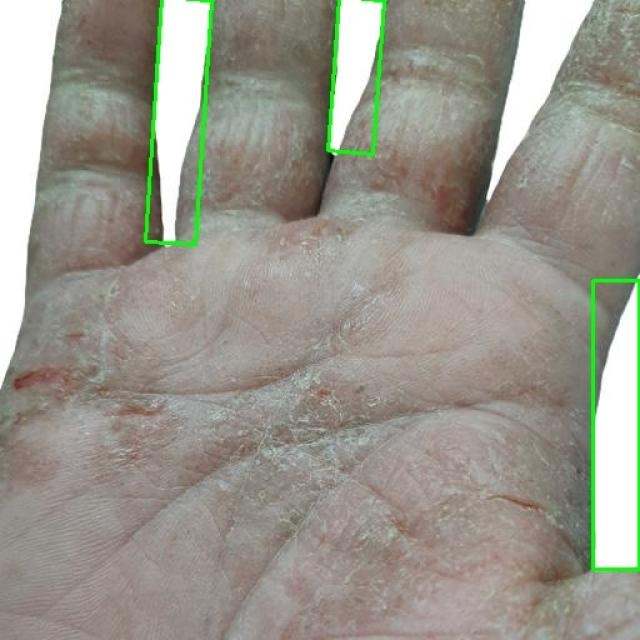Contact Dermatitis: (146, 0, 212, 245), (592, 280, 639, 569), (328, 0, 385, 154)
